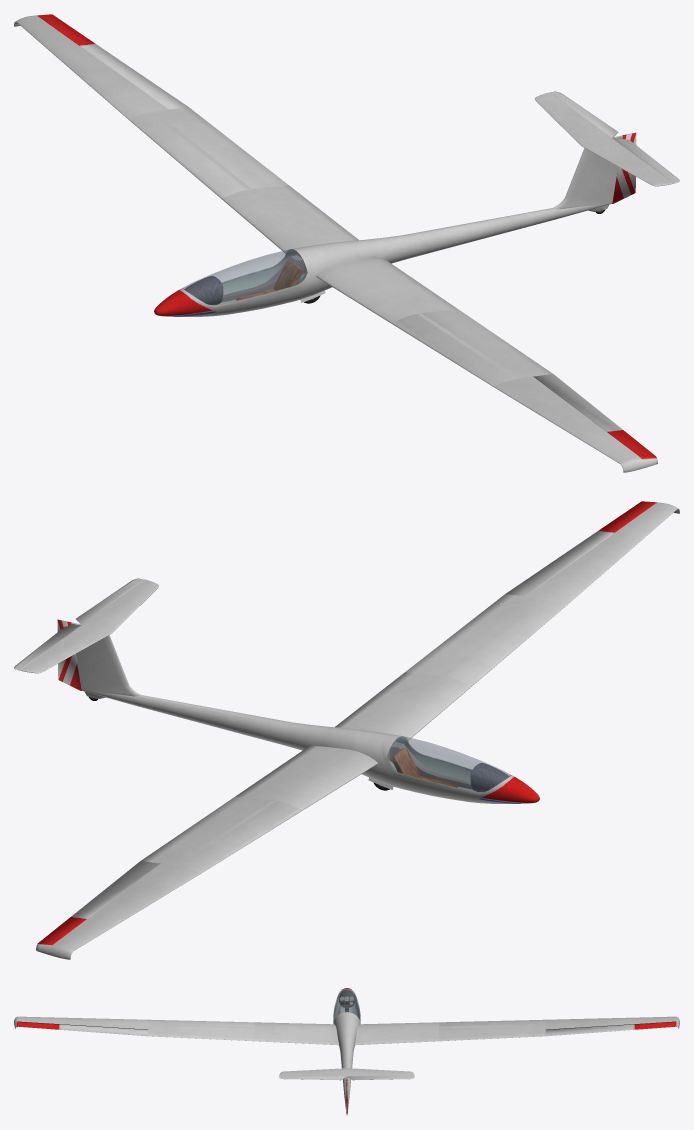
Rendered from astir.obj.
The picture shows the model from 3 angles, top to bottom: view 1: azimuth 30°, elevation 25°; view 2: azimuth 150°, elevation 25°; view 3: azimuth 270°, elevation 25°; orthographic projection. The views are drawn at different scales.
Visible parts, largest first — view 1: fuselage_fuselage.mesh, ailesR1_ailesR1.mesh.001, ailesL1_ailesL1.mesh.001, ailesR0_ailesR0.mesh.001, ailesL0_ailesL0.mesh.001, ailesR2.001_ailesR2.mesh.001, vitres_vitres.mesh, ailesL2.001_ailesL2.mesh.001, ailes2_ailes2.mesh, aileronD_aileronD.mesh.001, aileronG_aileronG.mesh.001, profondeur_profondeur.mesh.001 (+4 smaller); view 2: fuselage_fuselage.mesh, ailesL1_ailesL1.mesh.001, ailesR1_ailesR1.mesh.001, ailesL0_ailesL0.mesh.001, ailesR0_ailesR0.mesh.001, ailesL2.001_ailesL2.mesh.001, vitres_vitres.mesh, ailesR2.001_ailesR2.mesh.001, ailes2_ailes2.mesh, aileronG_aileronG.mesh.001, aileronD_aileronD.mesh.001, profondeur_profondeur.mesh.001 (+4 smaller); view 3: ailesR1_ailesR1.mesh.001, ailesL1_ailesL1.mesh.001, ailesR0_ailesR0.mesh.001, ailesL0_ailesL0.mesh.001, fuselage_fuselage.mesh, ailesR2.001_ailesR2.mesh.001, ailesL2.001_ailesL2.mesh.001, ailes2_ailes2.mesh, aileronG_aileronG.mesh.001, aileronD_aileronD.mesh.001, vitres_vitres.mesh, profondeur_profondeur.mesh.001 (+1 smaller).
Part boxes in pixels (x1,y1,x2,y2): fuselage_fuselage.mesh: (154,135,622,316); ailesR1_ailesR1.mesh.001: (129,107,288,199); ailesL1_ailesL1.mesh.001: (392,309,552,386); ailesR0_ailesR0.mesh.001: (222,185,358,253); ailesL0_ailesL0.mesh.001: (316,258,458,323); ailesR2.001_ailesR2.mesh.001: (14,14,167,120); vitres_vitres.mesh: (183,249,307,304); ailesL2.001_ailesL2.mesh.001: (494,376,657,472); ailes2_ailes2.mesh: (535,92,673,186); aileronD_aileronD.mesh.001: (38,14,187,109); aileronG_aileronG.mesh.001: (534,374,655,458); profondeur_profondeur.mesh.001: (550,91,679,183); fuselage_fuselage.mesh: (71,622,539,803); ailesL1_ailesL1.mesh.001: (405,594,564,686); ailesR1_ailesR1.mesh.001: (141,796,301,873); ailesL0_ailesL0.mesh.001: (335,672,471,740); ailesR0_ailesR0.mesh.001: (235,745,377,810); ailesL2.001_ailesL2.mesh.001: (526,501,679,607); vitres_vitres.mesh: (386,736,510,791); ailesR2.001_ailesR2.mesh.001: (36,863,199,959); ailes2_ailes2.mesh: (20,579,158,673); aileronG_aileronG.mesh.001: (505,501,655,596); aileronD_aileronD.mesh.001: (37,861,159,945); profondeur_profondeur.mesh.001: (14,578,143,670); ailesR1_ailesR1.mesh.001: (439,1019,545,1041); ailesL1_ailesL1.mesh.001: (148,1019,254,1041); ailesR0_ailesR0.mesh.001: (355,1022,439,1045); ailesL0_ailesL0.mesh.001: (254,1022,338,1045); fuselage_fuselage.mesh: (333,988,360,1108); ailesR2.001_ailesR2.mesh.001: (545,1016,679,1029); ailesL2.001_ailesL2.mesh.001: (14,1016,148,1029); ailes2_ailes2.mesh: (279,1068,414,1076); aileronG_aileronG.mesh.001: (17,1022,148,1036); aileronD_aileronD.mesh.001: (545,1022,676,1036); vitres_vitres.mesh: (333,989,360,1020); profondeur_profondeur.mesh.001: (279,1076,414,1080).
Bounding box in the file's own units: 6.73 × 1.24 × 14.81.
